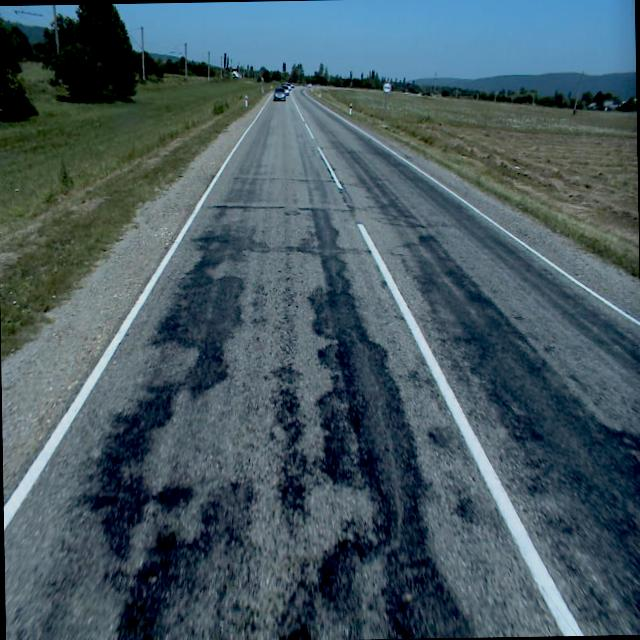road: (3, 85, 640, 640)
